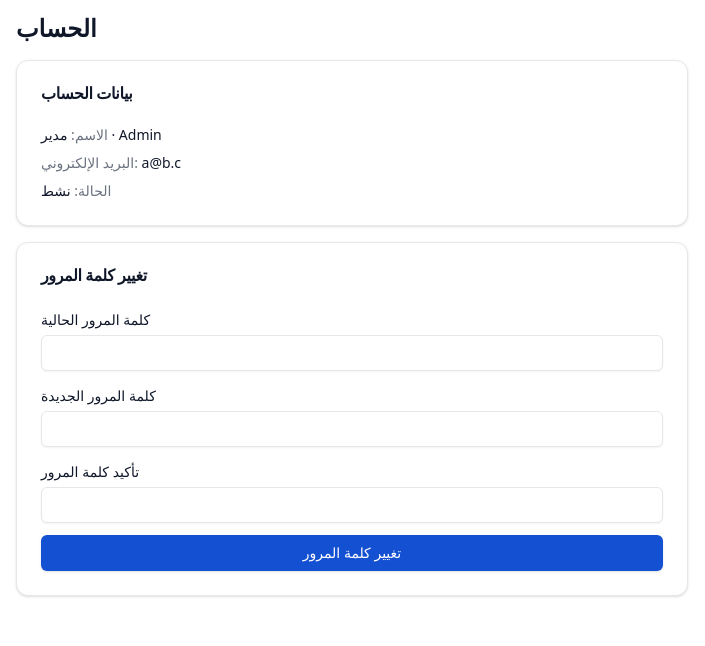
Test: ProfilePage › mismatched confirmation blocks submit with an error
The image size is (705, 646).
Type "OldPassword1" into the password field labelled "كلمة المرور الحالية".
click(352, 353); type("OldPassword1")  # box [41, 335, 663, 371]
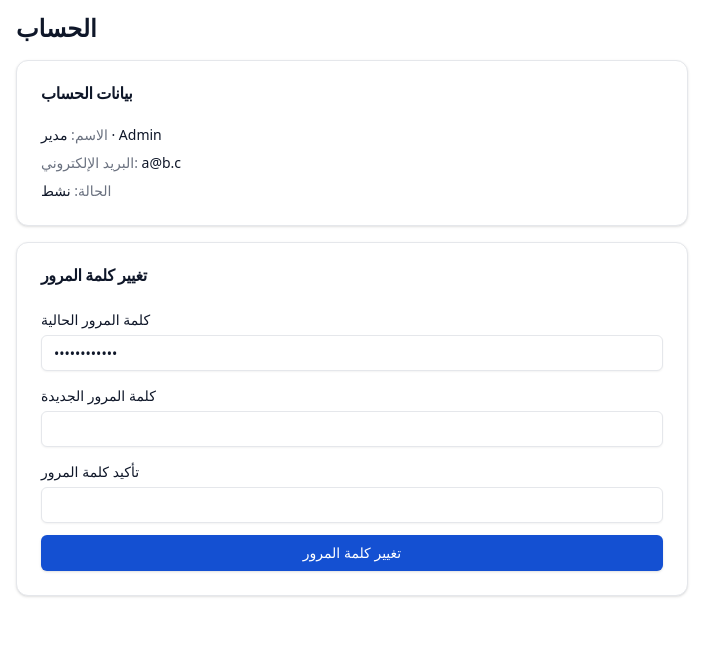
Type "NewPassword22" into the password field labelled "كلمة المرور الجديدة".
click(352, 429); type("NewPassword22")  # box [41, 411, 663, 447]
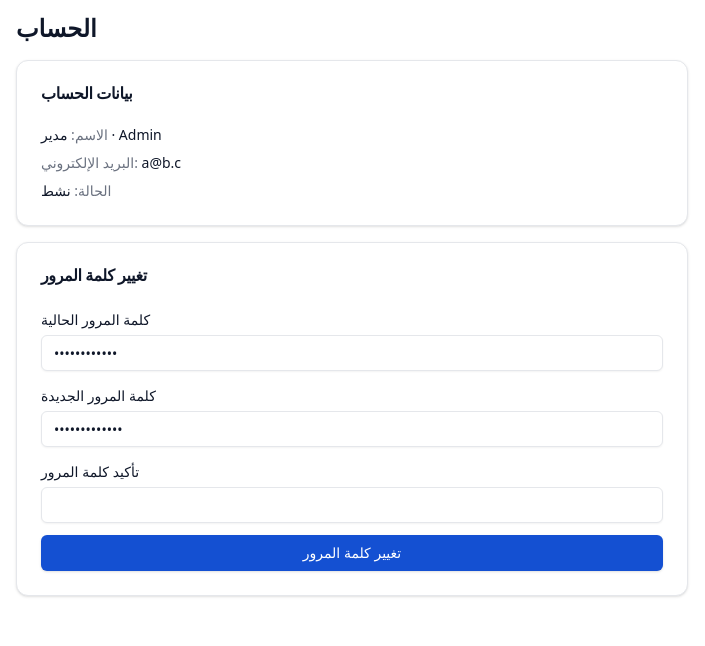
Type "Different33" into the password field labelled "تأكيد كلمة المرور".
click(352, 505); type("Different33")  # box [41, 487, 663, 523]
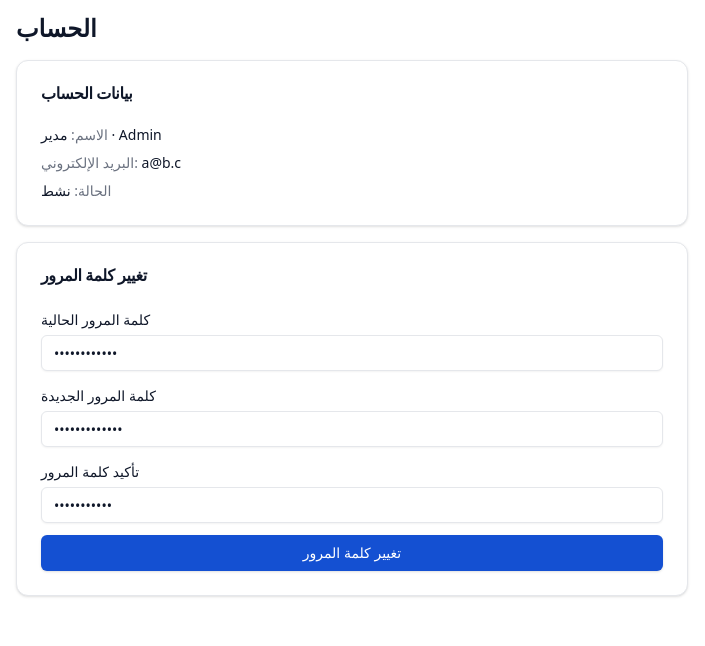
Click the button "تغيير كلمة المرور".
click(352, 553)  # box [41, 535, 663, 571]
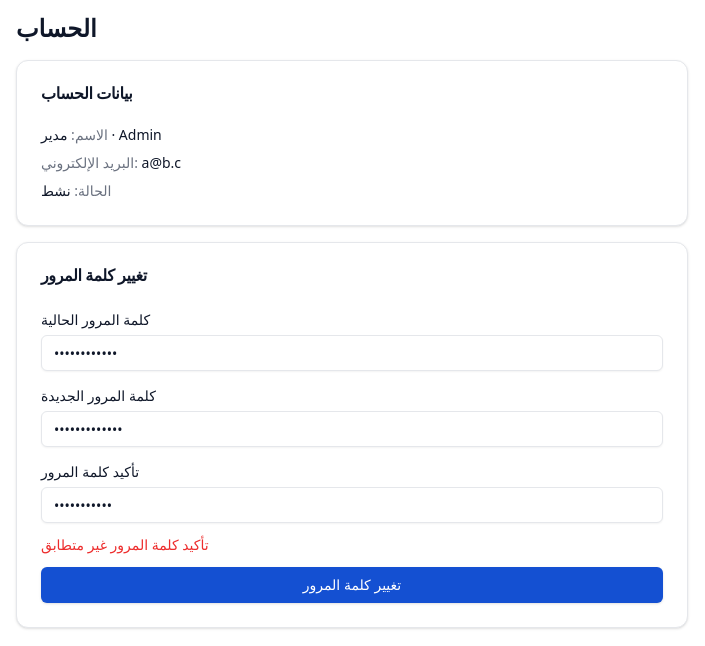
Expected: the text "تأكيد كلمة المرور غير متطابق" is shown, [41, 535, 209, 554]
